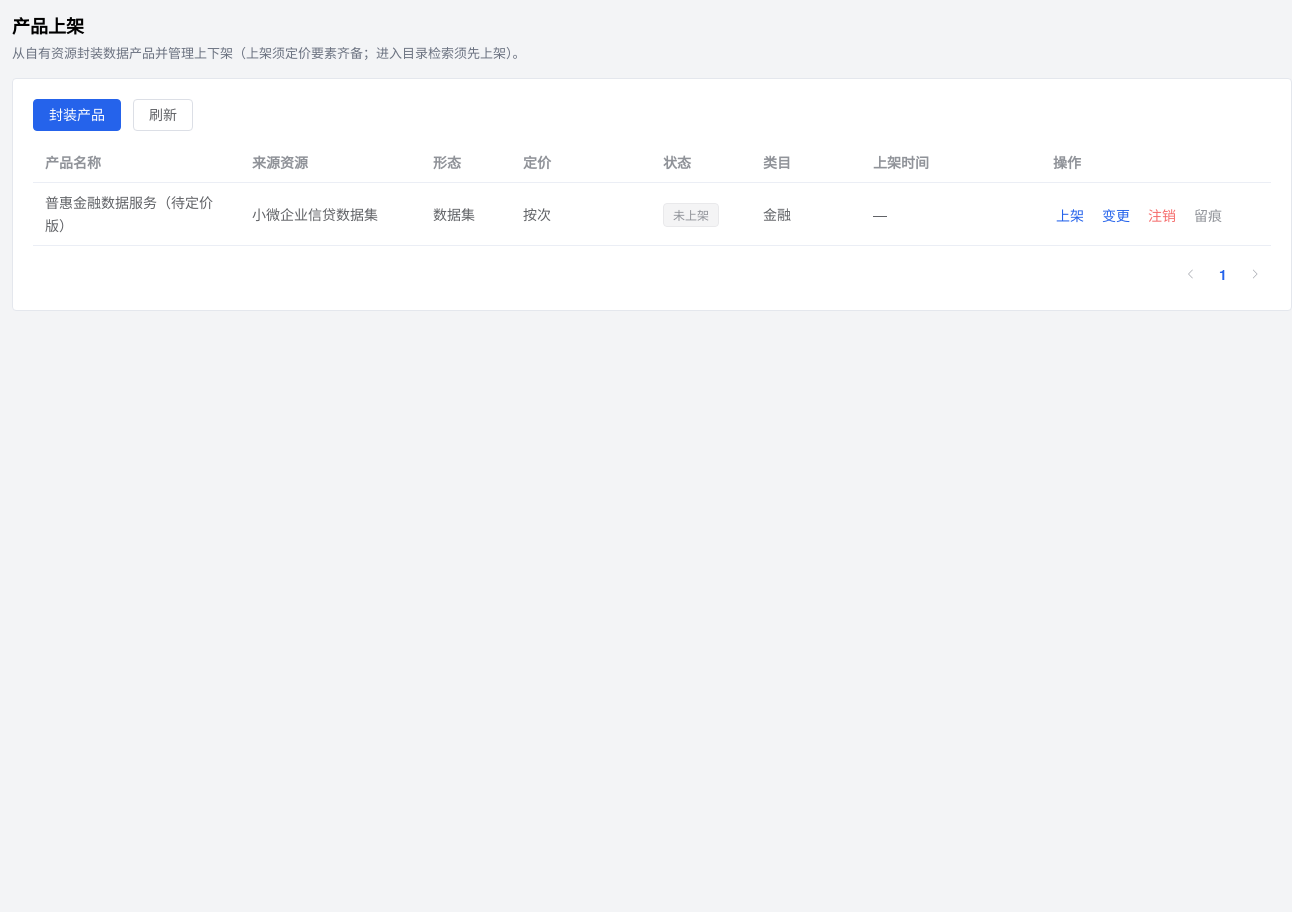
Scenario: 产品操作留痕区（T20） › 全值域渲染：封装/变更/上下架/强制下架（理由全文）/拒绝留痕/治理查看
Click the button with class "log-btn" at {"x": 1208, "y": 216}, box [1191,206,1225,226]
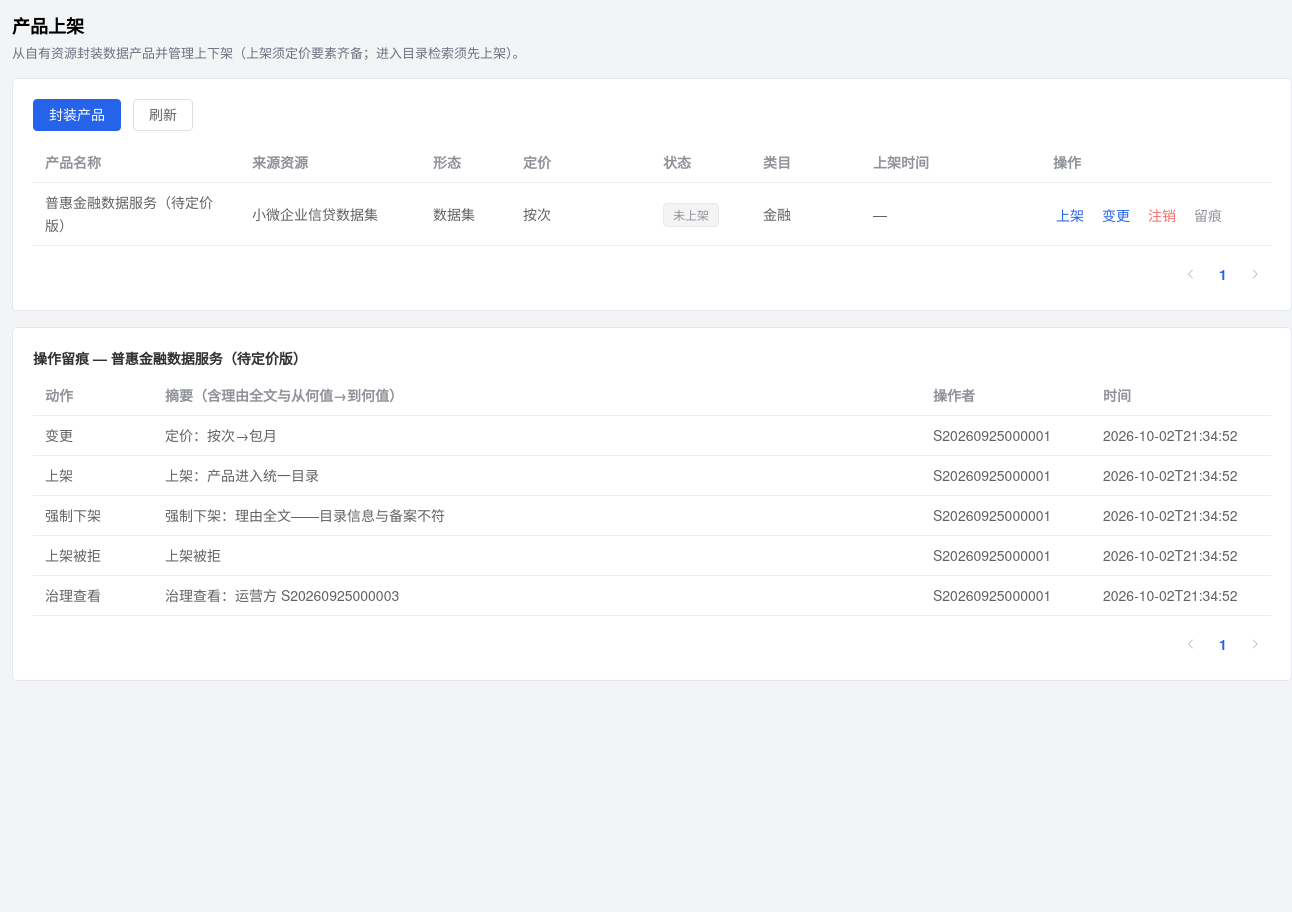
Expected: the text "定价：按次→包月" is shown, [165,425,277,445]
Expected: the text "目录信息与备案不符" is shown, [165,505,445,525]
Expected: the text "被拒" is shown, [45,545,101,565]
